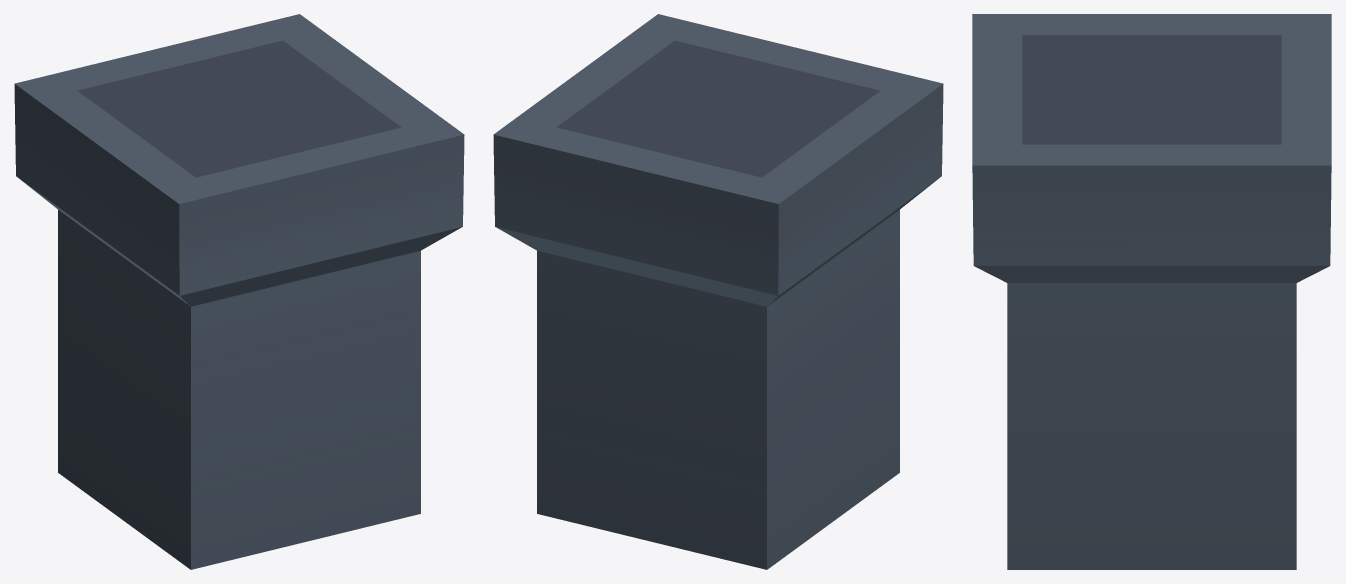
The model's file is Chimney_2_A_2.fbx.
3 views of the same model, side by side, from view 1: azimuth 30°, elevation 25°; view 2: azimuth 150°, elevation 25°; view 3: azimuth 270°, elevation 25° (orthographic). The views are drawn at different scales.
Parts seen in each view (by area): view 1: Chimney_2_A_2; view 2: Chimney_2_A_2; view 3: Chimney_2_A_2.
Part boxes in pixels (<box>): Chimney_2_A_2: <box>14,14,464,569</box>; Chimney_2_A_2: <box>493,14,943,569</box>; Chimney_2_A_2: <box>972,14,1331,569</box>.
Size of the model in its own units: 63.29 by 81.45 by 63.29.
